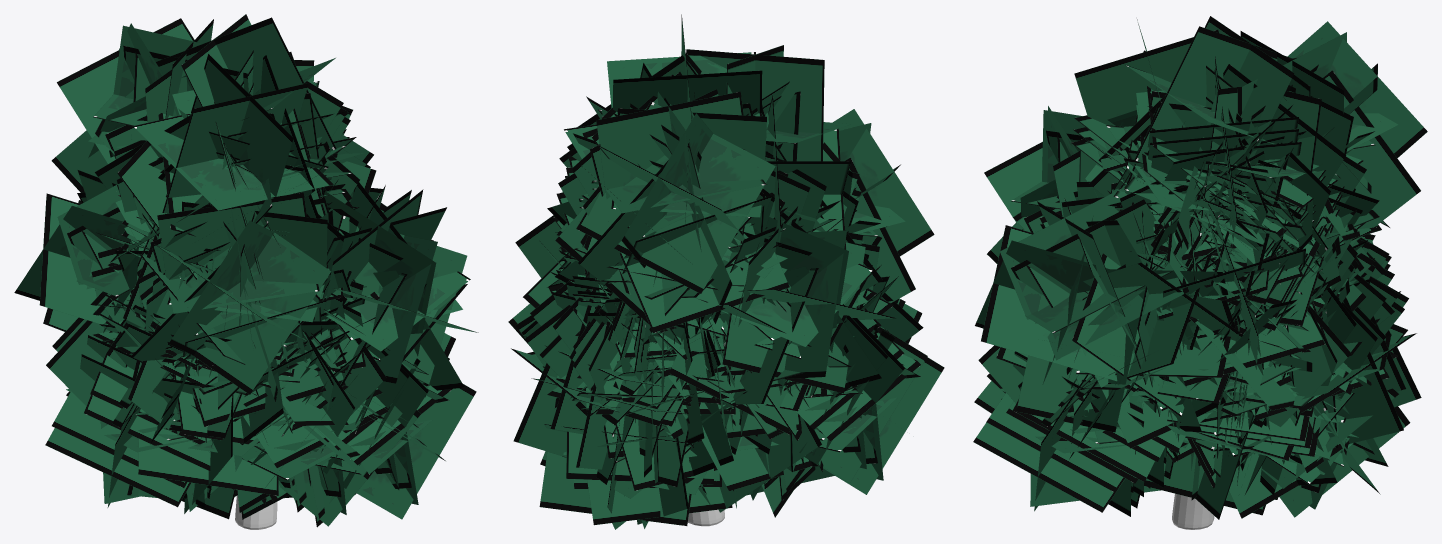
File: base_tree2.fbx
3 views of the same model, side by side, from view 1: azimuth 30°, elevation 25°; view 2: azimuth 150°, elevation 25°; view 3: azimuth 270°, elevation 25° (orthographic).
Visible parts, largest first — view 1: basic_tree2; view 2: basic_tree2; view 3: basic_tree2.
Boxes of the visible parts, x1,y1,x2,y2 form: basic_tree2: [14, 14, 478, 529]; basic_tree2: [508, 14, 944, 529]; basic_tree2: [973, 16, 1427, 529].
Bounding box in the file's own units: 309 × 389 × 317.
